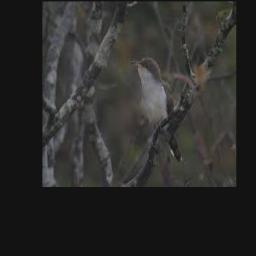Cuckoo: (130, 57, 184, 164)
